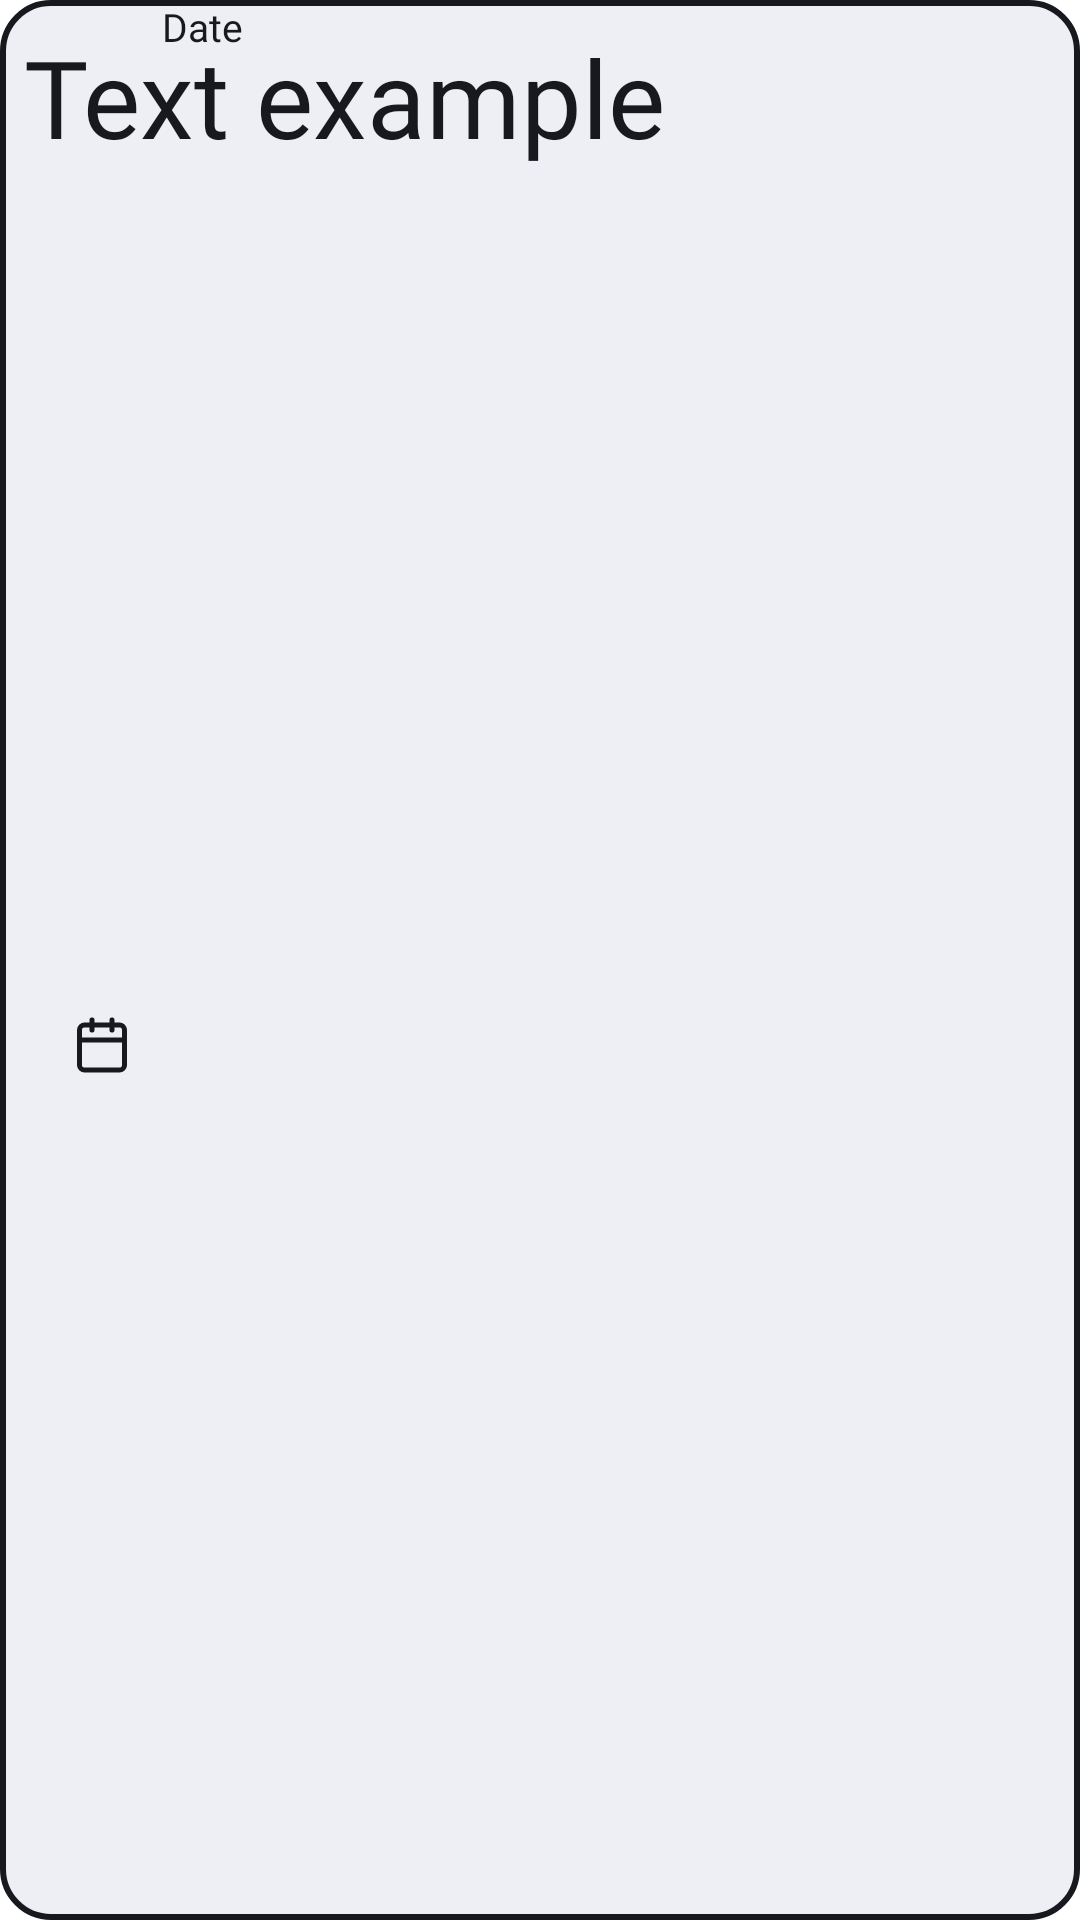

Icon bounding boxes for this 1080px×1920px phone screenshot, format (x1, y1, x2, y2):
calendar: (77, 1017, 127, 1073)
